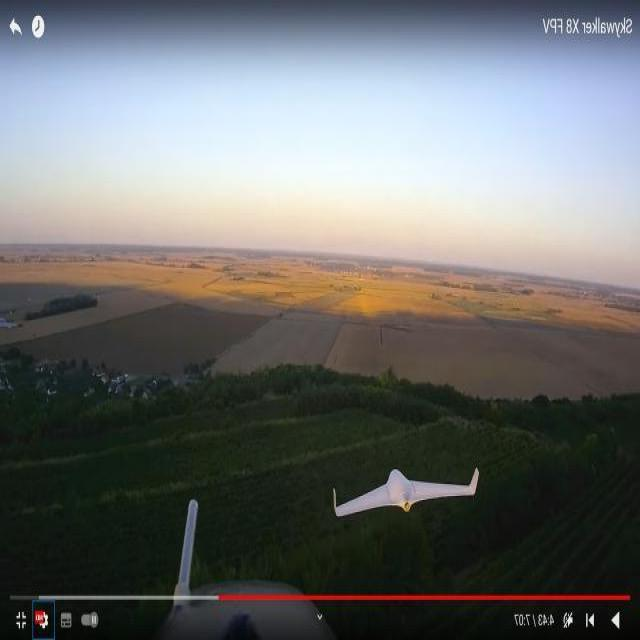UAV: (323, 433, 484, 528)
